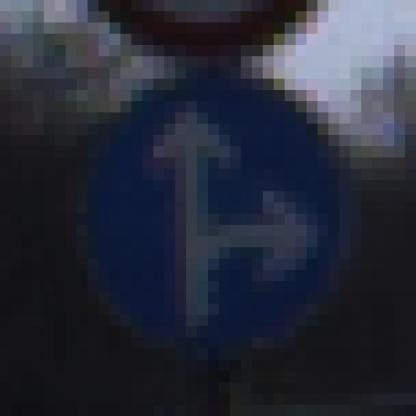Straight or Right: (67, 57, 362, 361)
